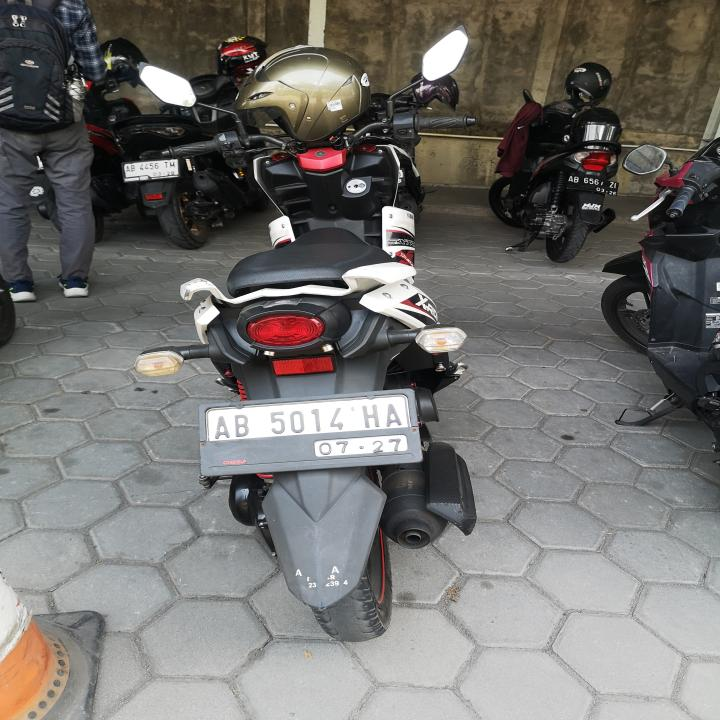plate: (203, 391, 416, 461), (122, 157, 181, 184), (566, 173, 620, 197)
